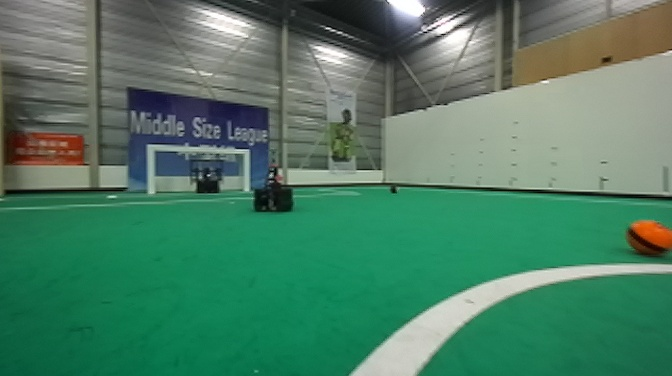ball: (623, 215, 672, 262), (388, 183, 400, 196)
goal: (144, 142, 252, 197)
goalpost: (145, 143, 158, 196), (240, 147, 252, 196)
robot: (250, 146, 298, 214), (188, 157, 226, 196)
